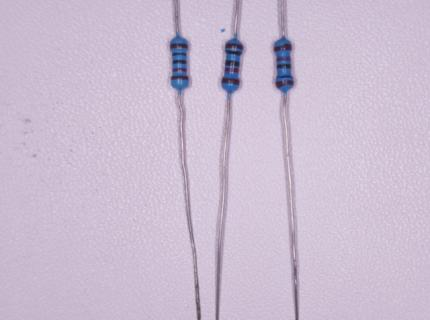Black band: (225, 60, 240, 67), (225, 50, 242, 56), (277, 63, 292, 69), (172, 51, 187, 56), (172, 59, 187, 64), (277, 75, 293, 79)
Brown band: (276, 80, 295, 88), (274, 44, 292, 52), (221, 78, 240, 85), (225, 43, 244, 50), (171, 75, 189, 81), (170, 43, 188, 49)
Red band: (276, 56, 291, 62), (225, 67, 239, 73), (172, 68, 188, 72)
